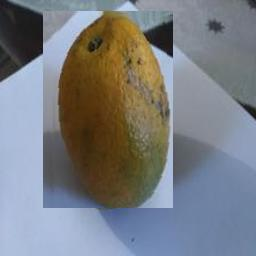Orange Semirotten: (43, 11, 173, 208)
